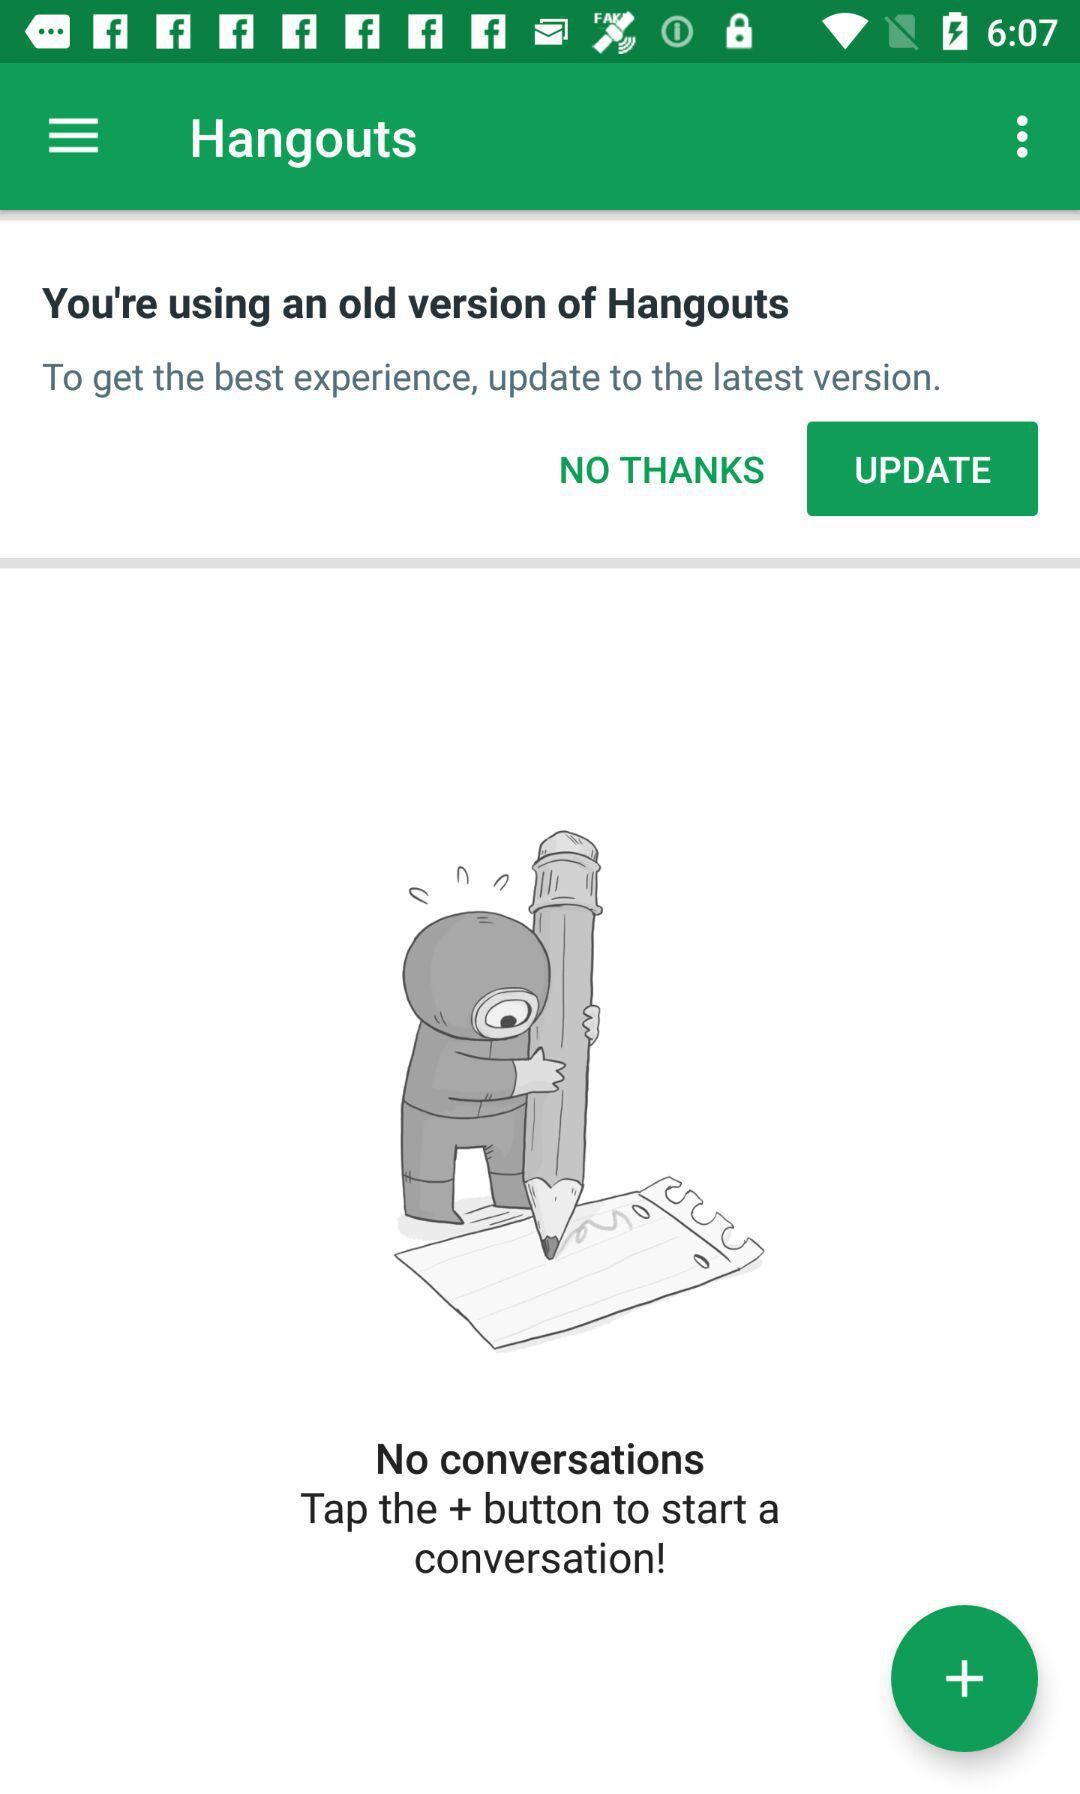Icon: (890, 1604, 1040, 1753), (47, 118, 100, 155), (1015, 114, 1029, 160)
Image: (393, 829, 767, 1356)
Text: (299, 1442, 780, 1576), (44, 361, 942, 400), (42, 286, 790, 329), (193, 119, 418, 170), (560, 456, 765, 486)
TextButton: (807, 422, 1039, 516)
Toolbar: (1, 64, 1080, 211)
UpperTaskBar: (1, 1, 1080, 64)
